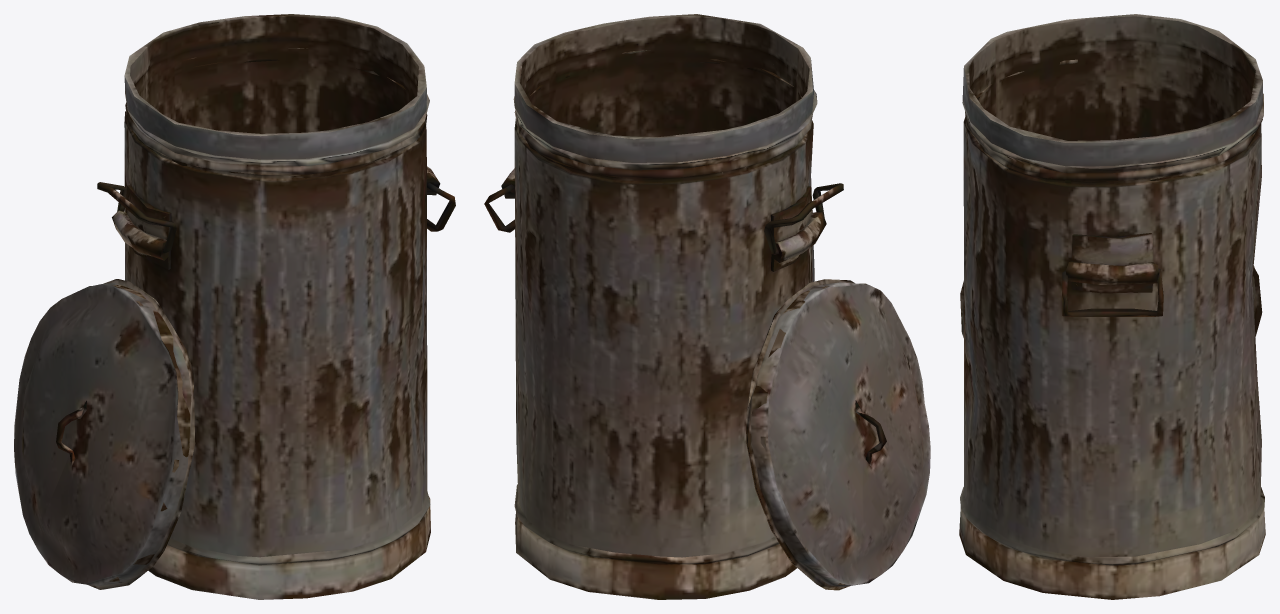
File: trashcan.glb
3 views of the same model, side by side, from view 1: azimuth 30°, elevation 25°; view 2: azimuth 150°, elevation 25°; view 3: azimuth 270°, elevation 25° (orthographic).
Visible parts, largest first — view 1: metal_trash_can_rust, metal_trash_can_rust_handle_left; view 2: metal_trash_can_rust, metal_trash_can_rust_handle_left; view 3: metal_trash_can_rust, metal_trash_can_rust_handle_left.
Part boxes in pixels (x1,y1,x2,y2): metal_trash_can_rust: (112, 14, 440, 599); metal_trash_can_rust_handle_left: (14, 182, 455, 589); metal_trash_can_rust: (501, 14, 826, 599); metal_trash_can_rust_handle_left: (484, 183, 930, 590); metal_trash_can_rust: (959, 14, 1265, 599); metal_trash_can_rust_handle_left: (960, 265, 1262, 337).
Bounding box in the file's own units: 0.7717 × 0.9061 × 0.5482.
1 material, 1 textured.
